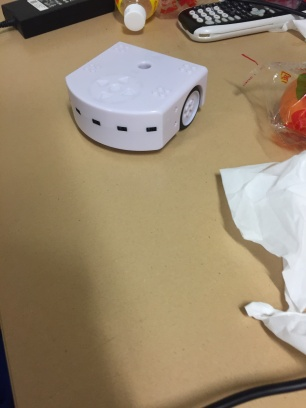thymio: (63, 38, 209, 155)
